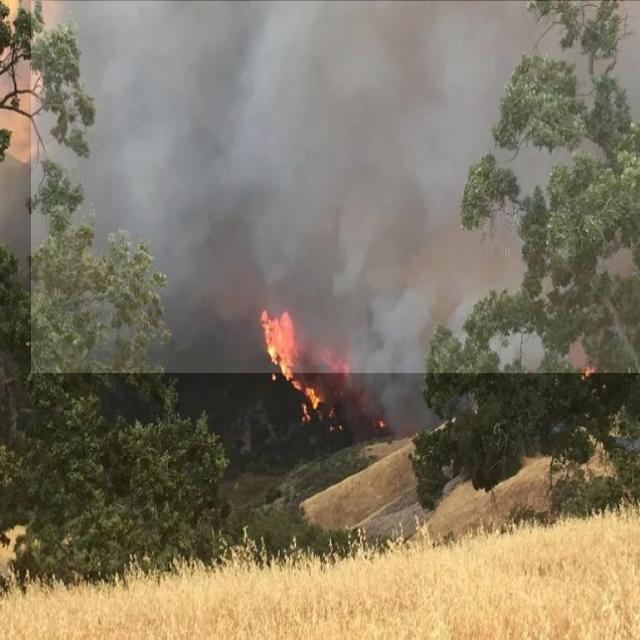Fire: (258, 303, 322, 435)
Smoke: (31, 1, 640, 373)
